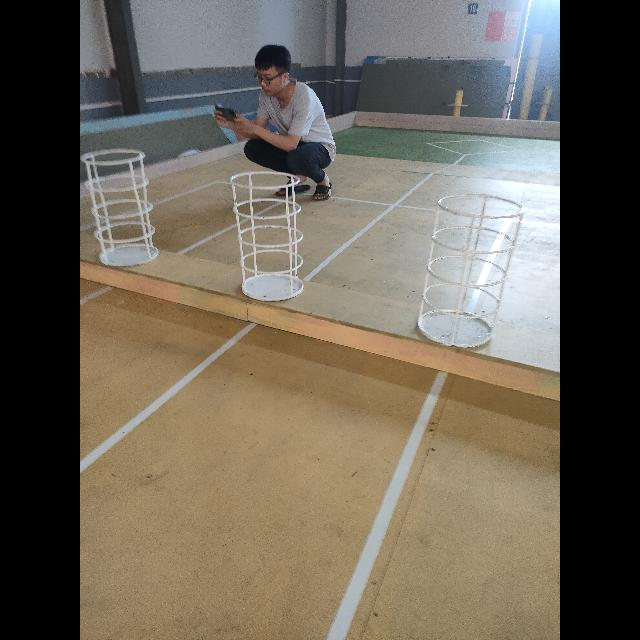S: (415, 192, 530, 356), (229, 169, 308, 305), (80, 144, 161, 270)
